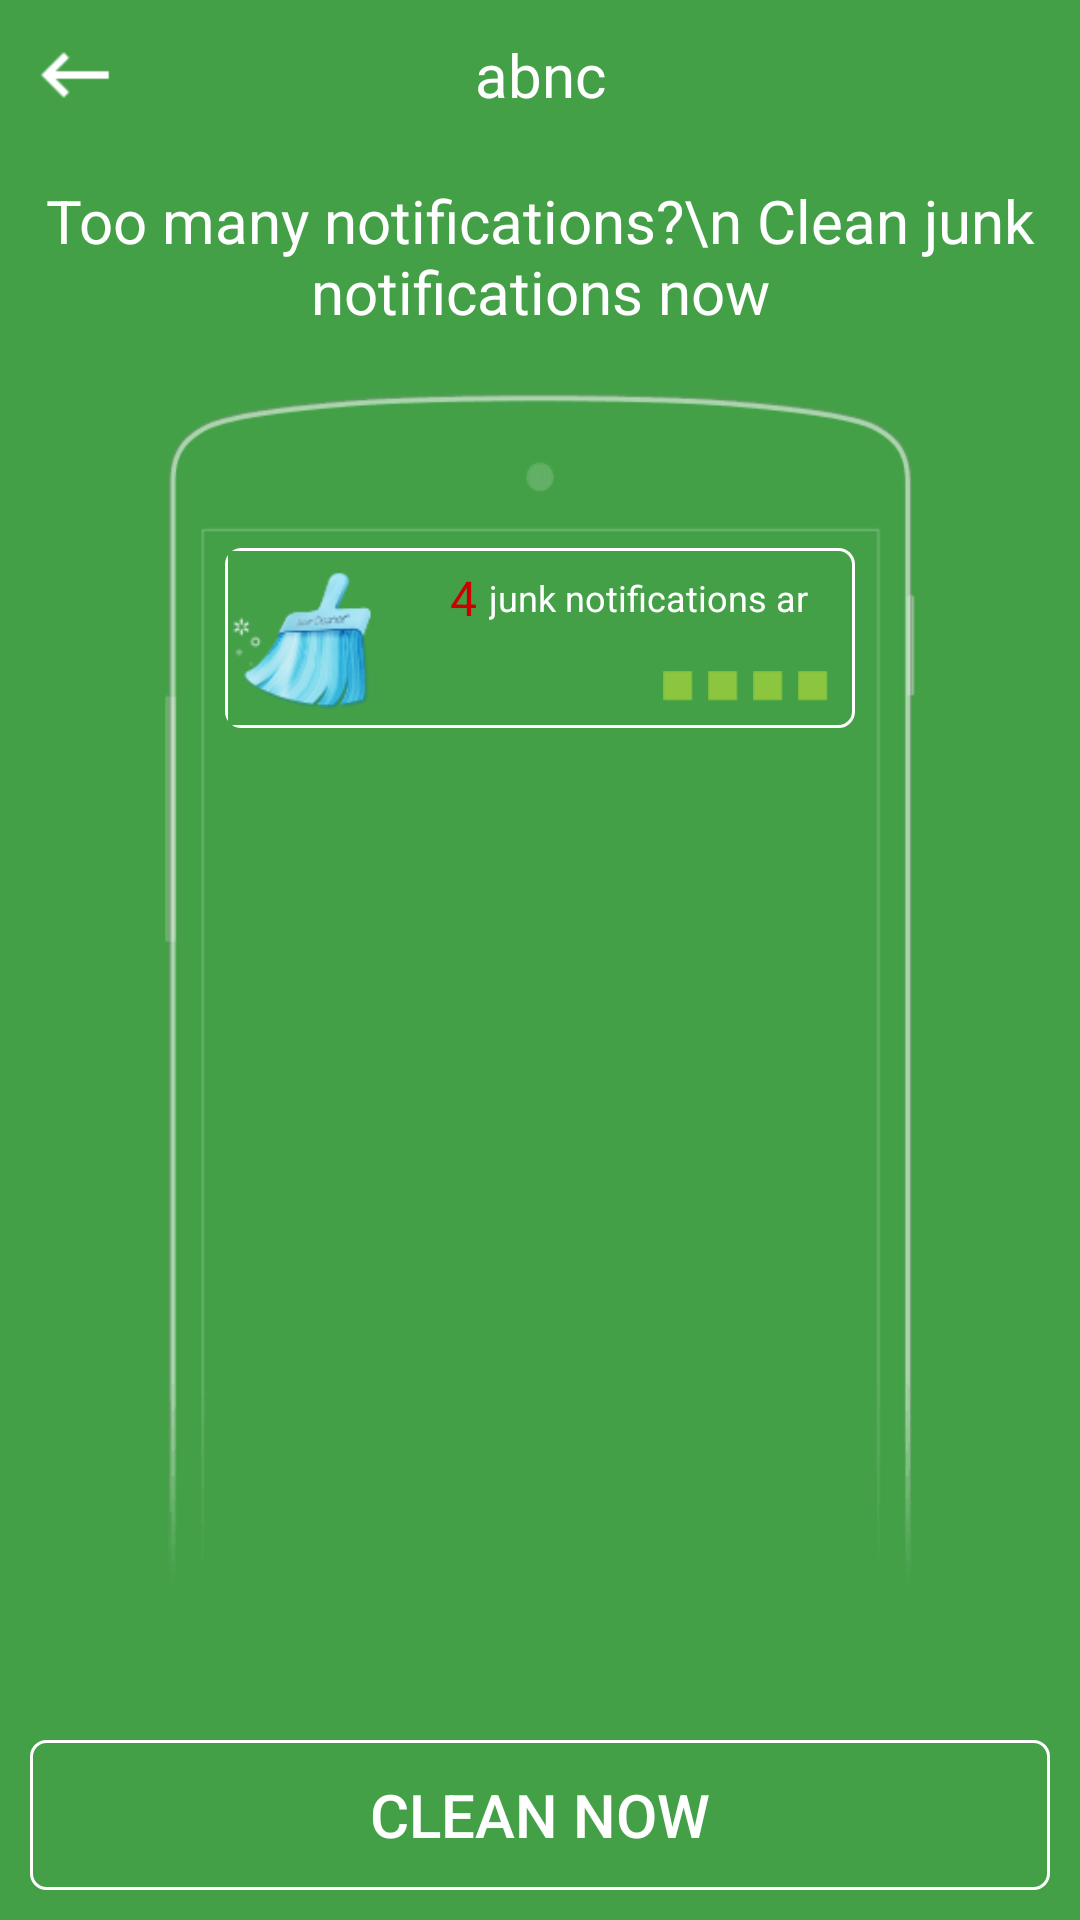

Screen size 1080 x 1920. Icon name, then its box in pixels as region(x1, y1, x2, y2):
back: region(41, 52, 109, 98)
